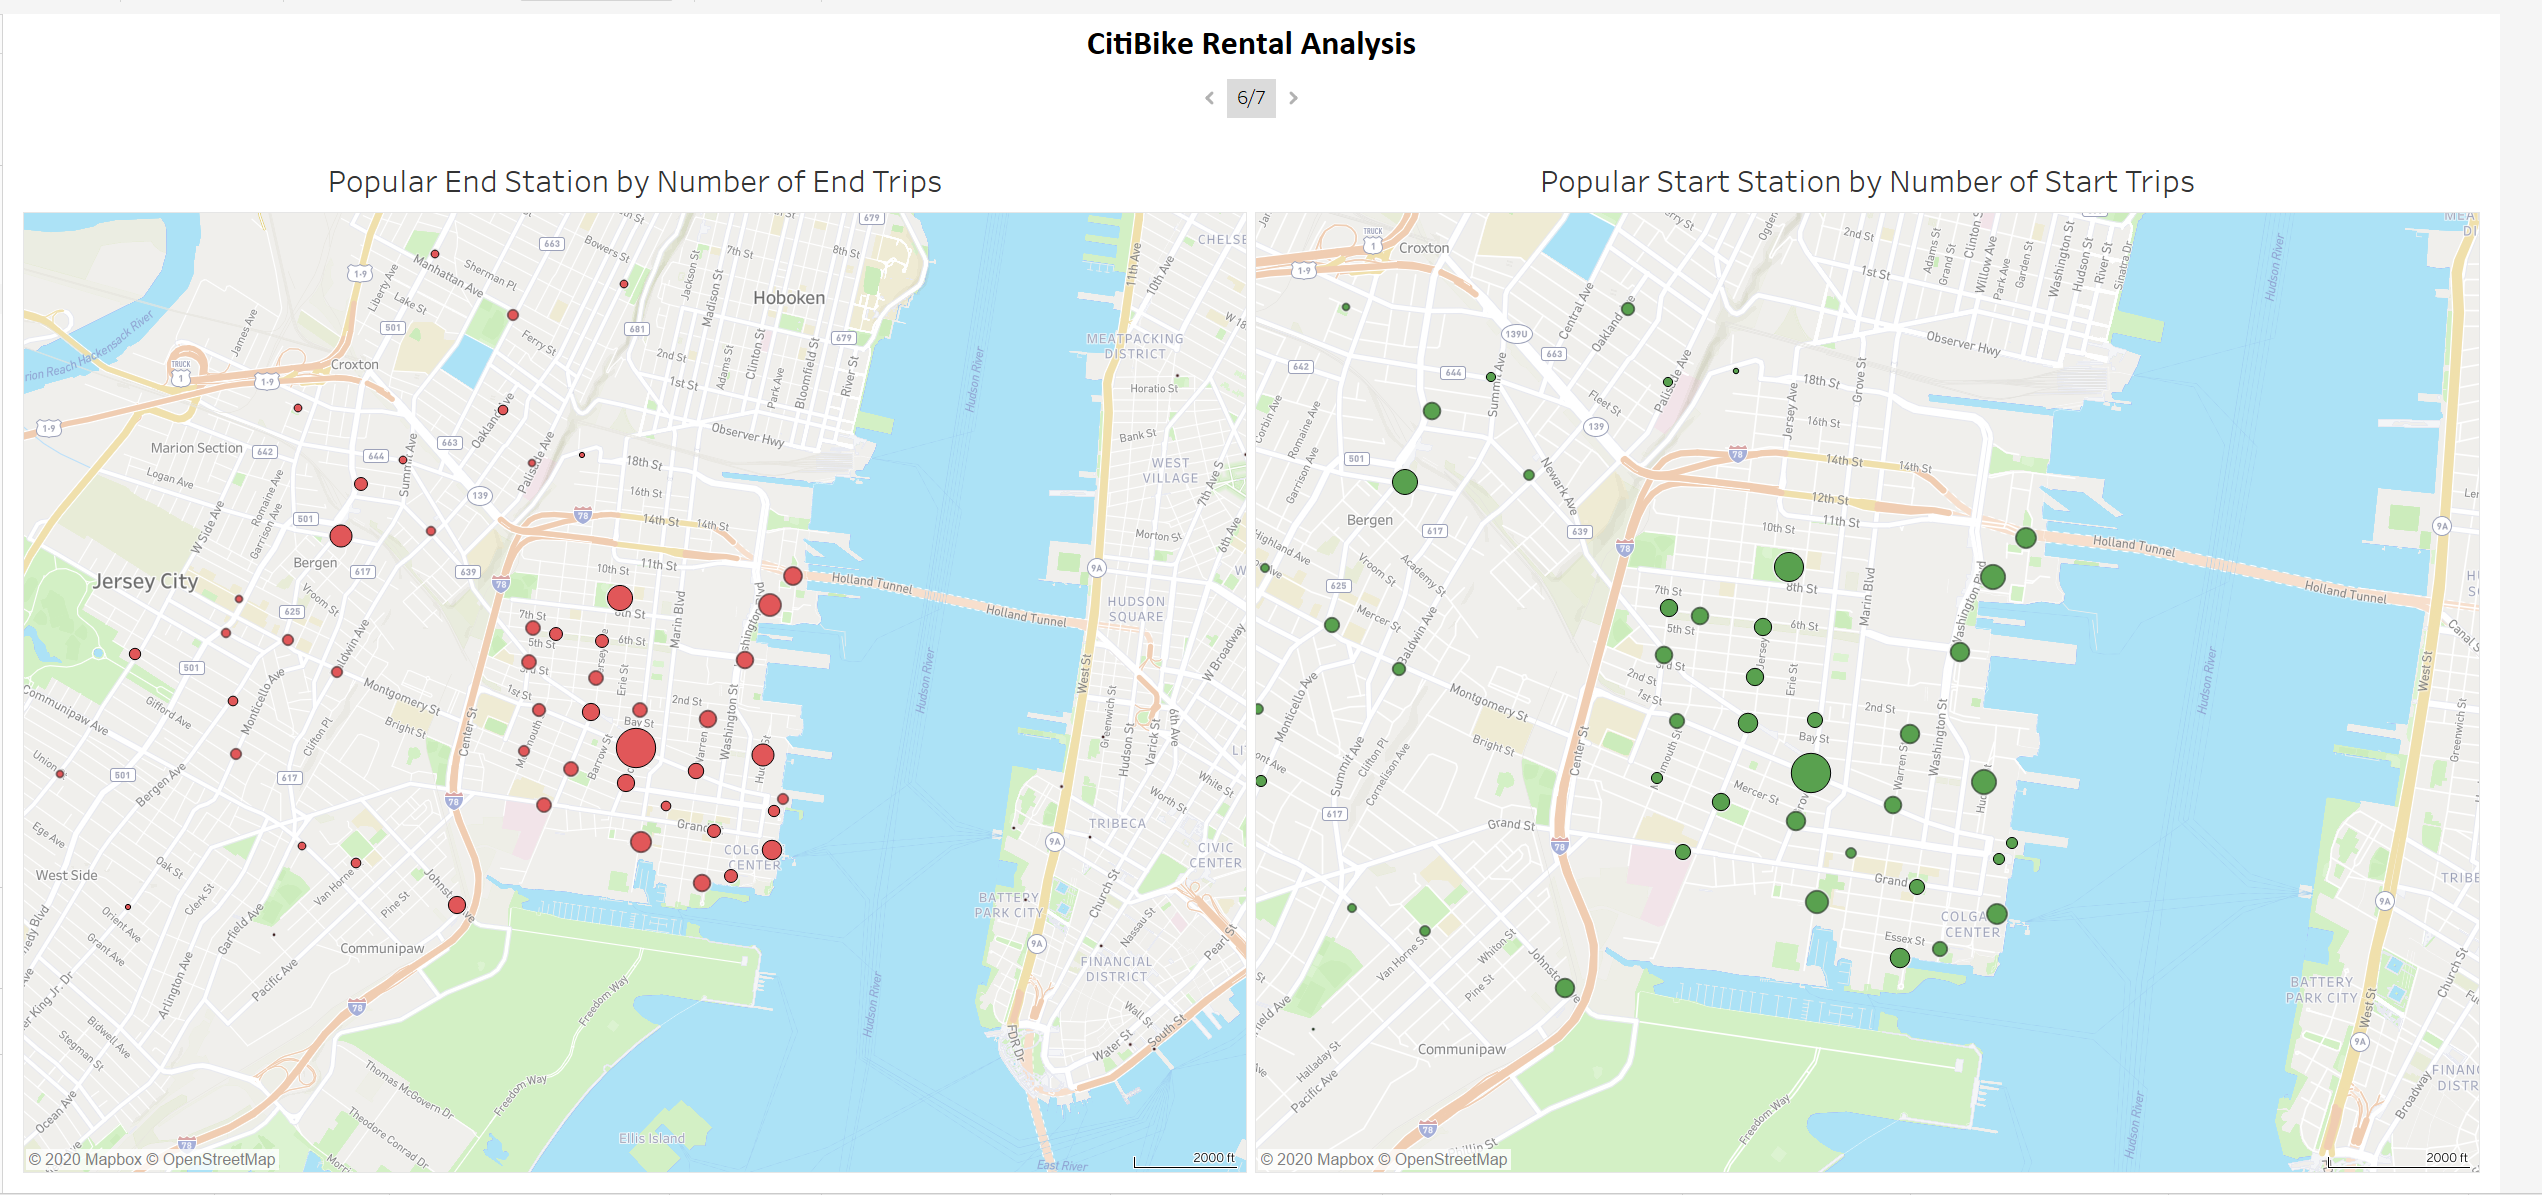

What the dashboard file says about the page in this screenshot:
{"tool":"tableau","page":{"name":"Station Maps","canvas":[1000,1000],"units":"permille","ordinal":4},"visuals":[{"type":"worksheet","box":[0,0,1000,1000]},{"type":"worksheet","title":"End Station Map","mark":"Automatic","rows":["end station latitude"],"cols":["end station longitude"],"box":[3.2,6.8,496.8,986.4]},{"type":"worksheet","title":"Start Station Map","mark":"Automatic","rows":["start station latitude"],"cols":["start station longitude"],"box":[500,6.8,496.8,986.4]}]}

Visuals, with their boxes on the dashboard's canvas, which has no fixed pixel size, in thousandths of its width and height (x1, y1, x2, y2). These are canvas units, not pixel positions in the 2542x1195 screenshot, which may show the page scaled, cropped or inside an application window:
worksheet: crop(0, 0, 1000, 1000)
"End Station Map" worksheet: crop(3, 7, 500, 993)
"Start Station Map" worksheet: crop(500, 7, 997, 993)
